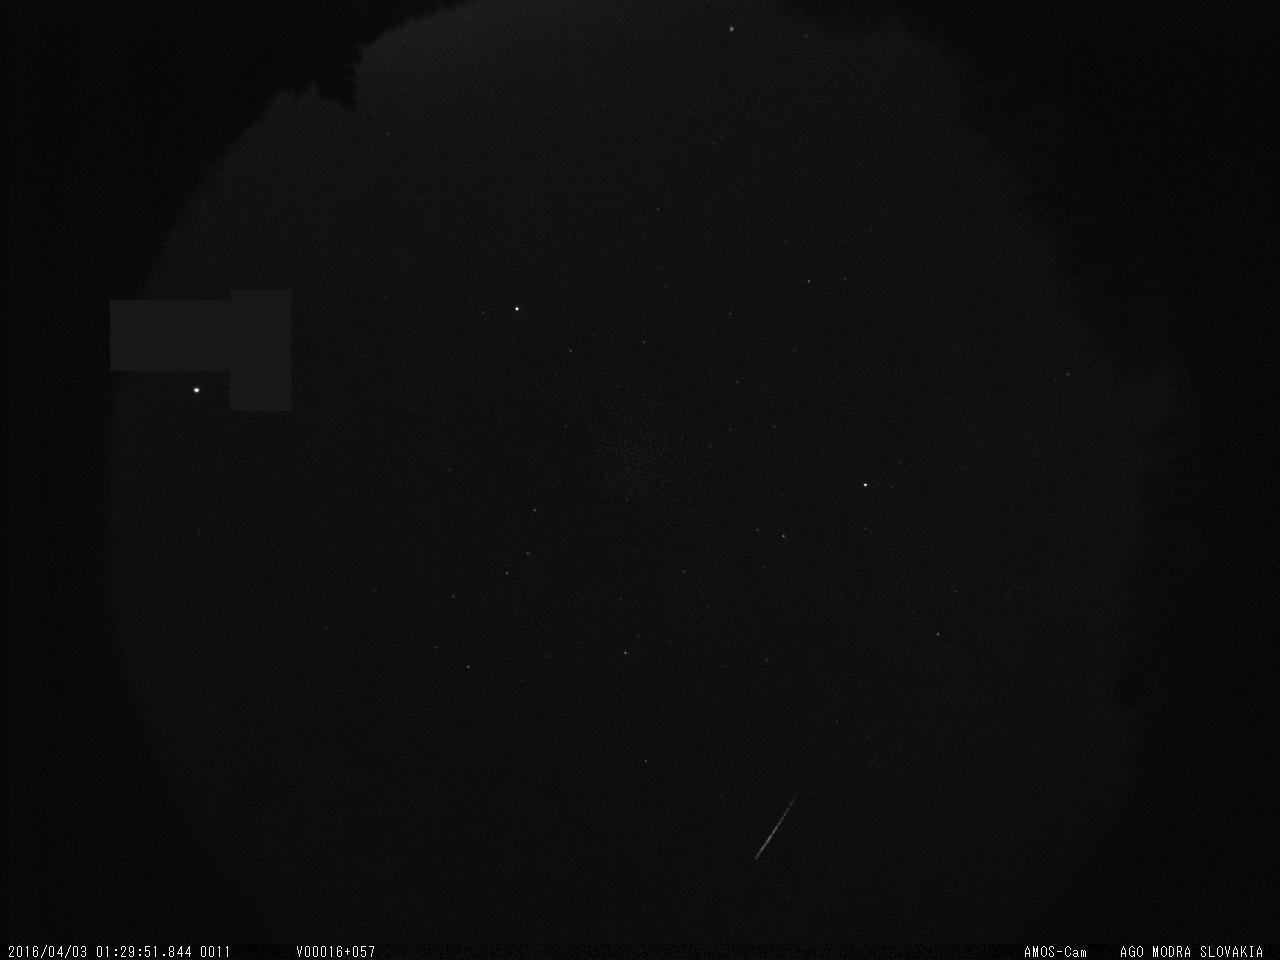meteor: (740, 788, 811, 866)
